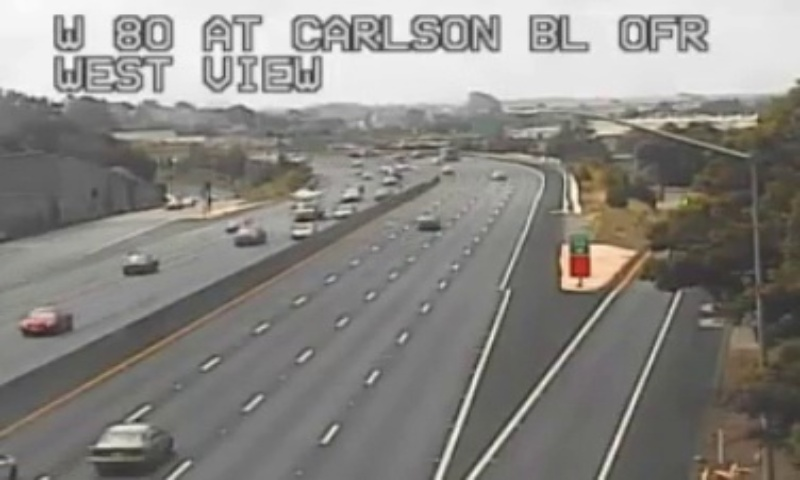car: (87, 425, 174, 467), (417, 212, 440, 230)
